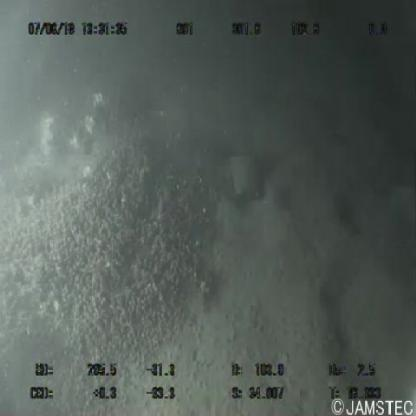Rác: (219, 148, 269, 210)
